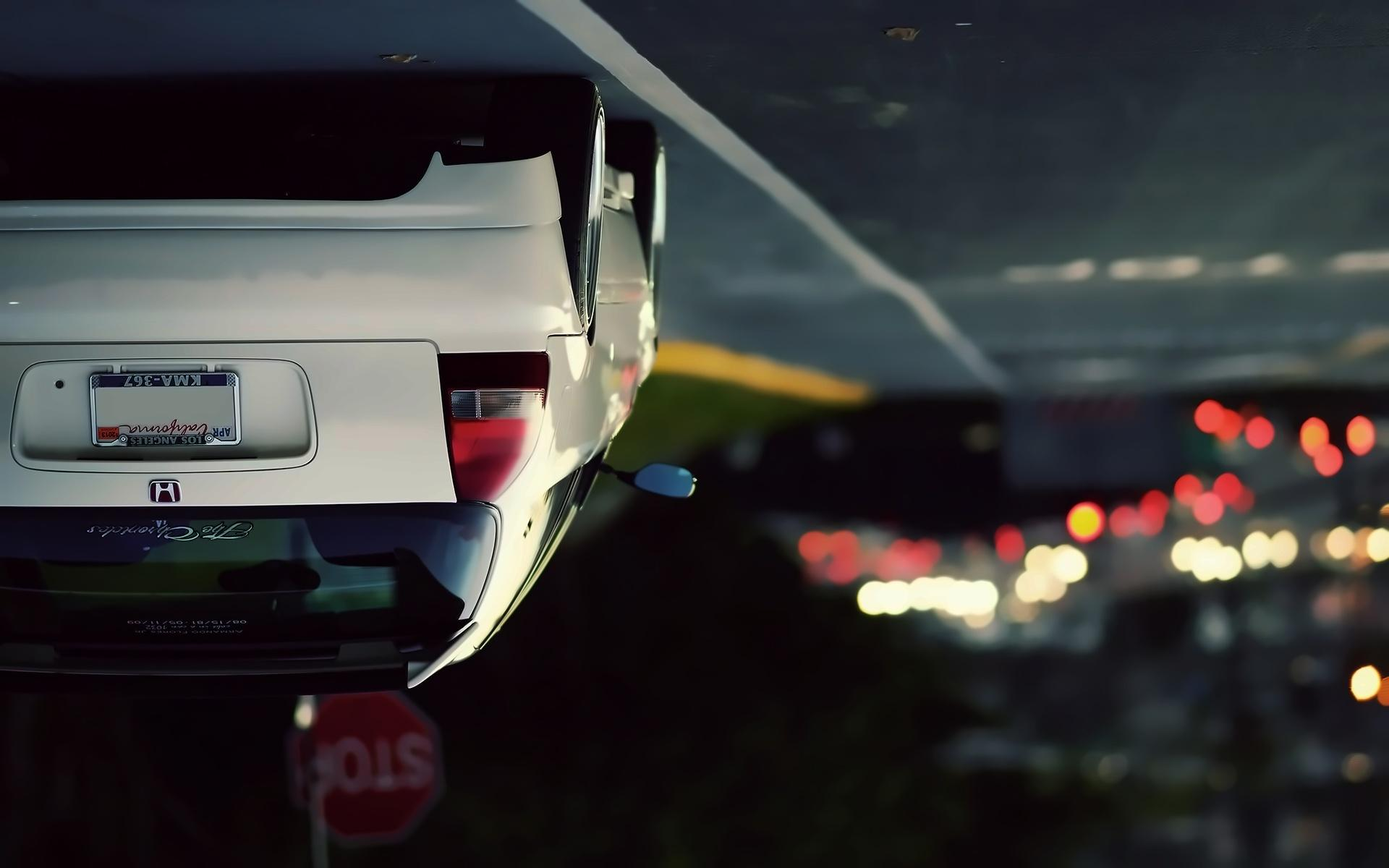Car boot: (0, 330, 500, 674)
Rear bumper: (0, 61, 589, 360)
Rear light - -L-: (431, 346, 555, 511)
Side mirror - -L-: (590, 449, 703, 508)
